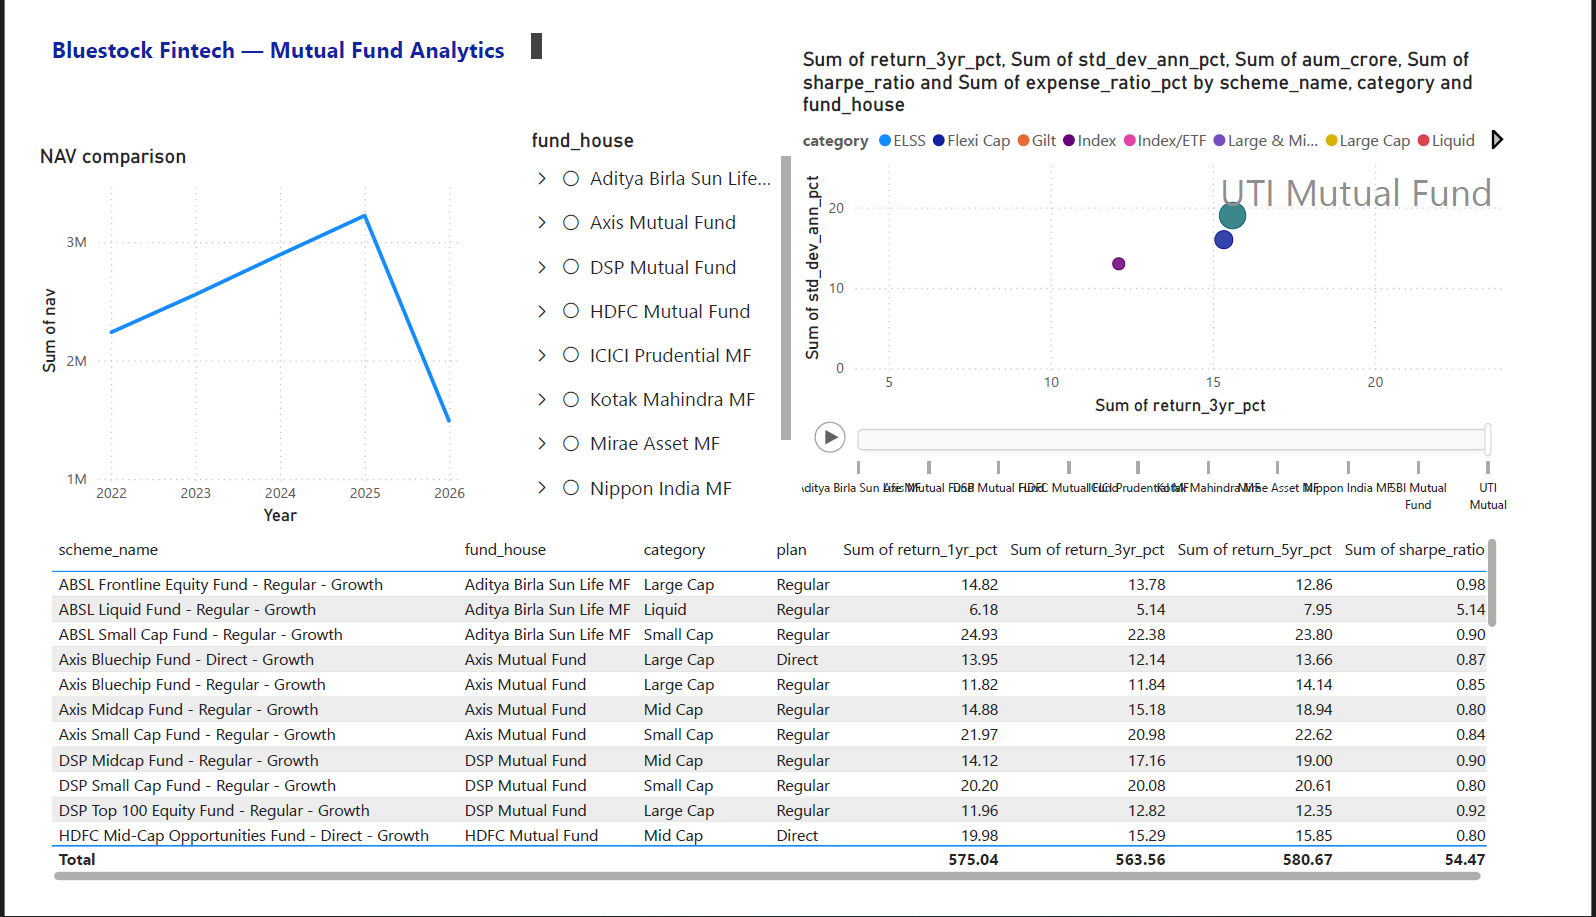

Layout of this report page (visuals, bound fields, positions):
{"tool":"powerbi","page":{"name":"Fund Performance ","canvas":[1280,720],"ordinal":1},"visuals":[{"type":"scatterChart","fields":{"X":["Sum(07_scheme_performance.return_3yr_pct)"],"Y":["Sum(07_scheme_performance.std_dev_ann_pct)"],"Size":["Sum(07_scheme_performance.aum_crore)"],"Category":["07_scheme_performance.scheme_name"],"Series":["07_scheme_performance.category"],"Play":["07_scheme_performance.fund_house"]},"box":[639.4,15.9,604.5,393.5],"z":0},{"type":"lineChart","title":"NAV comparison","fields":{"Category":["02_nav_history.date.Variation.Date Hierarchy.Year","02_nav_history.date.Variation.Date Hierarchy.Quarter","02_nav_history.date.Variation.Date Hierarchy.Month","02_nav_history.date.Variation.Date Hierarchy.Day"],"Y":["Sum(02_nav_history.nav)"]},"box":[0,96.8,366.5,325.2],"z":1000},{"type":"tableEx","fields":{"Values":["07_scheme_performance.scheme_name","07_scheme_performance.fund_house","07_scheme_performance.category","07_scheme_performance.plan","Sum(07_scheme_performance.return_1yr_pct)","Sum(07_scheme_performance.return_3yr_pct)","Sum(07_scheme_performance.return_5yr_pct)","Sum(07_scheme_performance.sharpe_ratio)"]},"box":[9.5,422,1221.6,298.3],"z":2000},{"type":"listSlicer","fields":{"Values":["07_scheme_performance.fund_house","07_scheme_performance.category","07_scheme_performance.plan"]},"box":[412.5,84.1,226.9,325.2],"z":3000},{"type":"textbox","box":[9.5,0,420.4,33.3],"z":4000}]}

Visuals, with their boxes in screenshot pixels (x1, y1, x2, y2), scaled from the page's 1280x720 canvas onto the 1596x917 screenshot:
scatterChart - Sum(07_scheme_performance.return_3yr_pct) x Sum(07_scheme_performance.std_dev_ann_pct): <region>797, 20, 1551, 521</region>
"NAV comparison" lineChart: <region>0, 123, 457, 537</region>
tableEx - 07_scheme_performance.scheme_name x 07_scheme_performance.fund_house: <region>12, 537, 1535, 916</region>
listSlicer - 07_scheme_performance.fund_house x 07_scheme_performance.category: <region>514, 107, 797, 521</region>
textbox: <region>12, 0, 536, 42</region>
